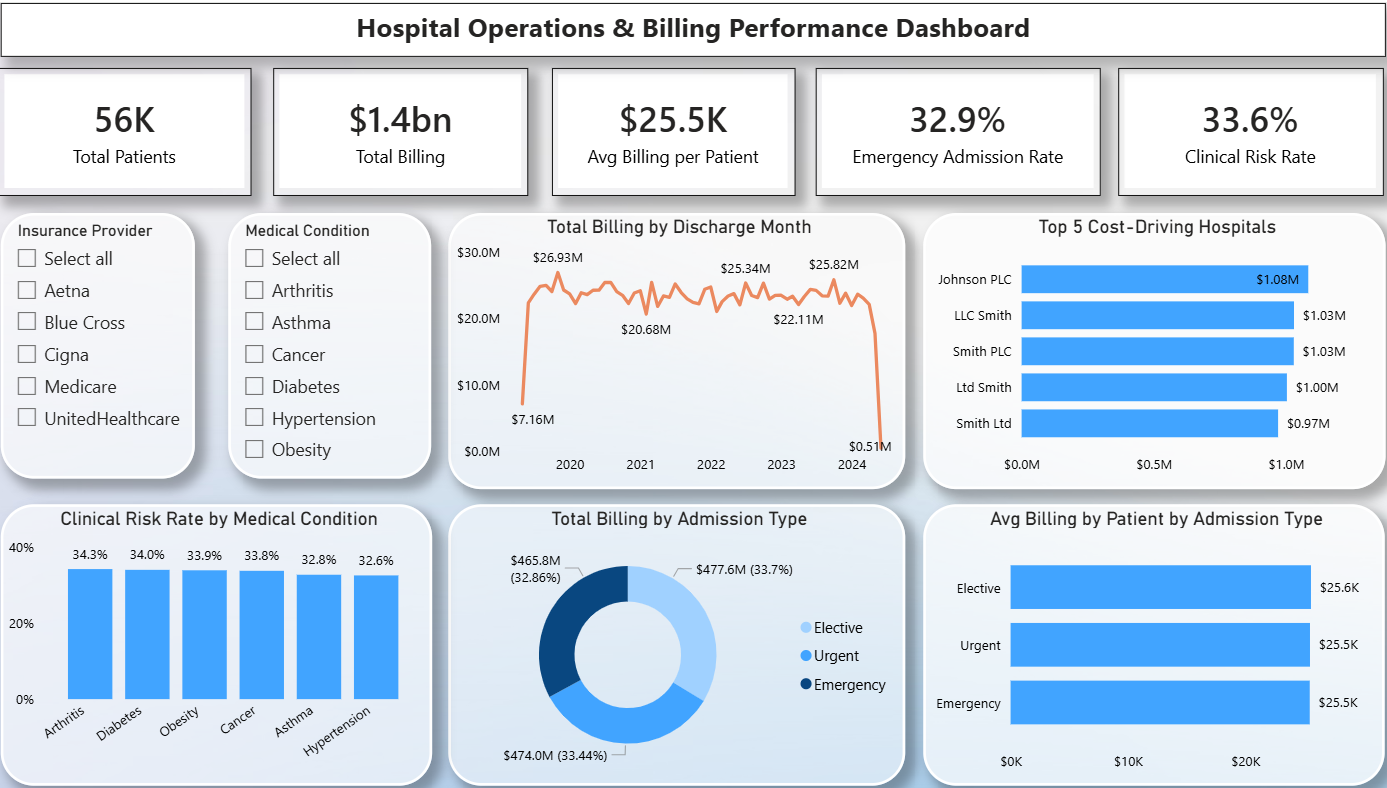

Layout of this report page (visuals, bound fields, positions):
{"tool":"powerbi","page":{"name":"Operations & Billing","canvas":[1280,720],"ordinal":0},"visuals":[{"type":"cardVisual","fields":{"Data":["Key_Measures.Total Patients"]},"box":[10.8,59.2,230,115.7],"z":0},{"type":"cardVisual","fields":{"Data":["Key_Measures.Abnormal Test %"]},"box":[1026.1,59.2,240.7,115.7],"z":1000},{"type":"cardVisual","fields":{"Data":["Key_Measures.Emergency Admission %"]},"box":[751.8,59.2,258.2,115.7],"z":2000},{"type":"cardVisual","fields":{"Data":["Key_Measures.Avg Billing per Patient"]},"box":[512.4,59.2,220.6,115.7],"z":3000},{"type":"cardVisual","fields":{"Data":["Key_Measures.Total Billing"]},"box":[259.6,59.2,231.3,115.7],"z":4000},{"type":"lineChart","title":"Total Billing by Discharge Month","fields":{"Category":["healthcare_dataset.Discharge Date.Variation.Date Hierarchy.Year","healthcare_dataset.Discharge Date.Variation.Date Hierarchy.Month"],"Y":["Key_Measures.Total Billing"]},"box":[418.2,191,414.2,250.1],"z":5000},{"type":"donutChart","title":"Total Billing by Admission Type","fields":{"Category":["healthcare_dataset.Admission Type"],"Y":["Key_Measures.Total Billing"]},"box":[418.2,454.6,414.2,255.5],"z":6000},{"type":"clusteredBarChart","title":"Top 5 Cost-Driving Hospitals","fields":{"Category":["healthcare_dataset.Hospital"],"Y":["Key_Measures.Total Billing"]},"box":[848.6,191,419.6,250.1],"z":7000},{"type":"clusteredColumnChart","title":"Clinical Risk Rate by Medical Condition","fields":{"Category":["healthcare_dataset.Medical Condition"],"Y":["Key_Measures.Abnormal Test %"]},"box":[12.1,454.6,391.3,255.5],"z":8000},{"type":"slicer","fields":{"Values":["healthcare_dataset.Insurance Provider"]},"box":[12.1,191,176.2,240.7],"z":9000},{"type":"slicer","fields":{"Values":["healthcare_dataset.Medical Condition"]},"box":[219.2,191,184.2,240.7],"z":10000},{"type":"textbox","box":[12.1,0,1256.1,48.4],"z":11000},{"type":"clusteredBarChart","title":"Avg Billing by Patient by Admission Type","fields":{"Category":["healthcare_dataset.Admission Type"],"Y":["Key_Measures.Avg Billing per Patient"]},"box":[848.6,454.6,418.2,255.5],"z":12000}]}

Visuals, with their boxes in screenshot pixels (x1, y1, x2, y2), scaled from the page's 1280x720 canvas onto the 1387x788 screenshot:
cardVisual - Key_Measures.Total Patients: locate(12, 65, 261, 191)
cardVisual - Key_Measures.Abnormal Test %: locate(1112, 65, 1373, 191)
cardVisual - Key_Measures.Emergency Admission %: locate(815, 65, 1094, 191)
cardVisual - Key_Measures.Avg Billing per Patient: locate(555, 65, 794, 191)
cardVisual - Key_Measures.Total Billing: locate(281, 65, 532, 191)
"Total Billing by Discharge Month" lineChart: locate(453, 209, 902, 483)
"Total Billing by Admission Type" donutChart: locate(453, 498, 902, 777)
"Top 5 Cost-Driving Hospitals" clusteredBarChart: locate(920, 209, 1374, 483)
"Clinical Risk Rate by Medical Condition" clusteredColumnChart: locate(13, 498, 437, 777)
slicer - healthcare_dataset.Insurance Provider: locate(13, 209, 204, 472)
slicer - healthcare_dataset.Medical Condition: locate(238, 209, 437, 472)
textbox: locate(13, 0, 1374, 53)
"Avg Billing by Patient by Admission Type" clusteredBarChart: locate(920, 498, 1373, 777)
